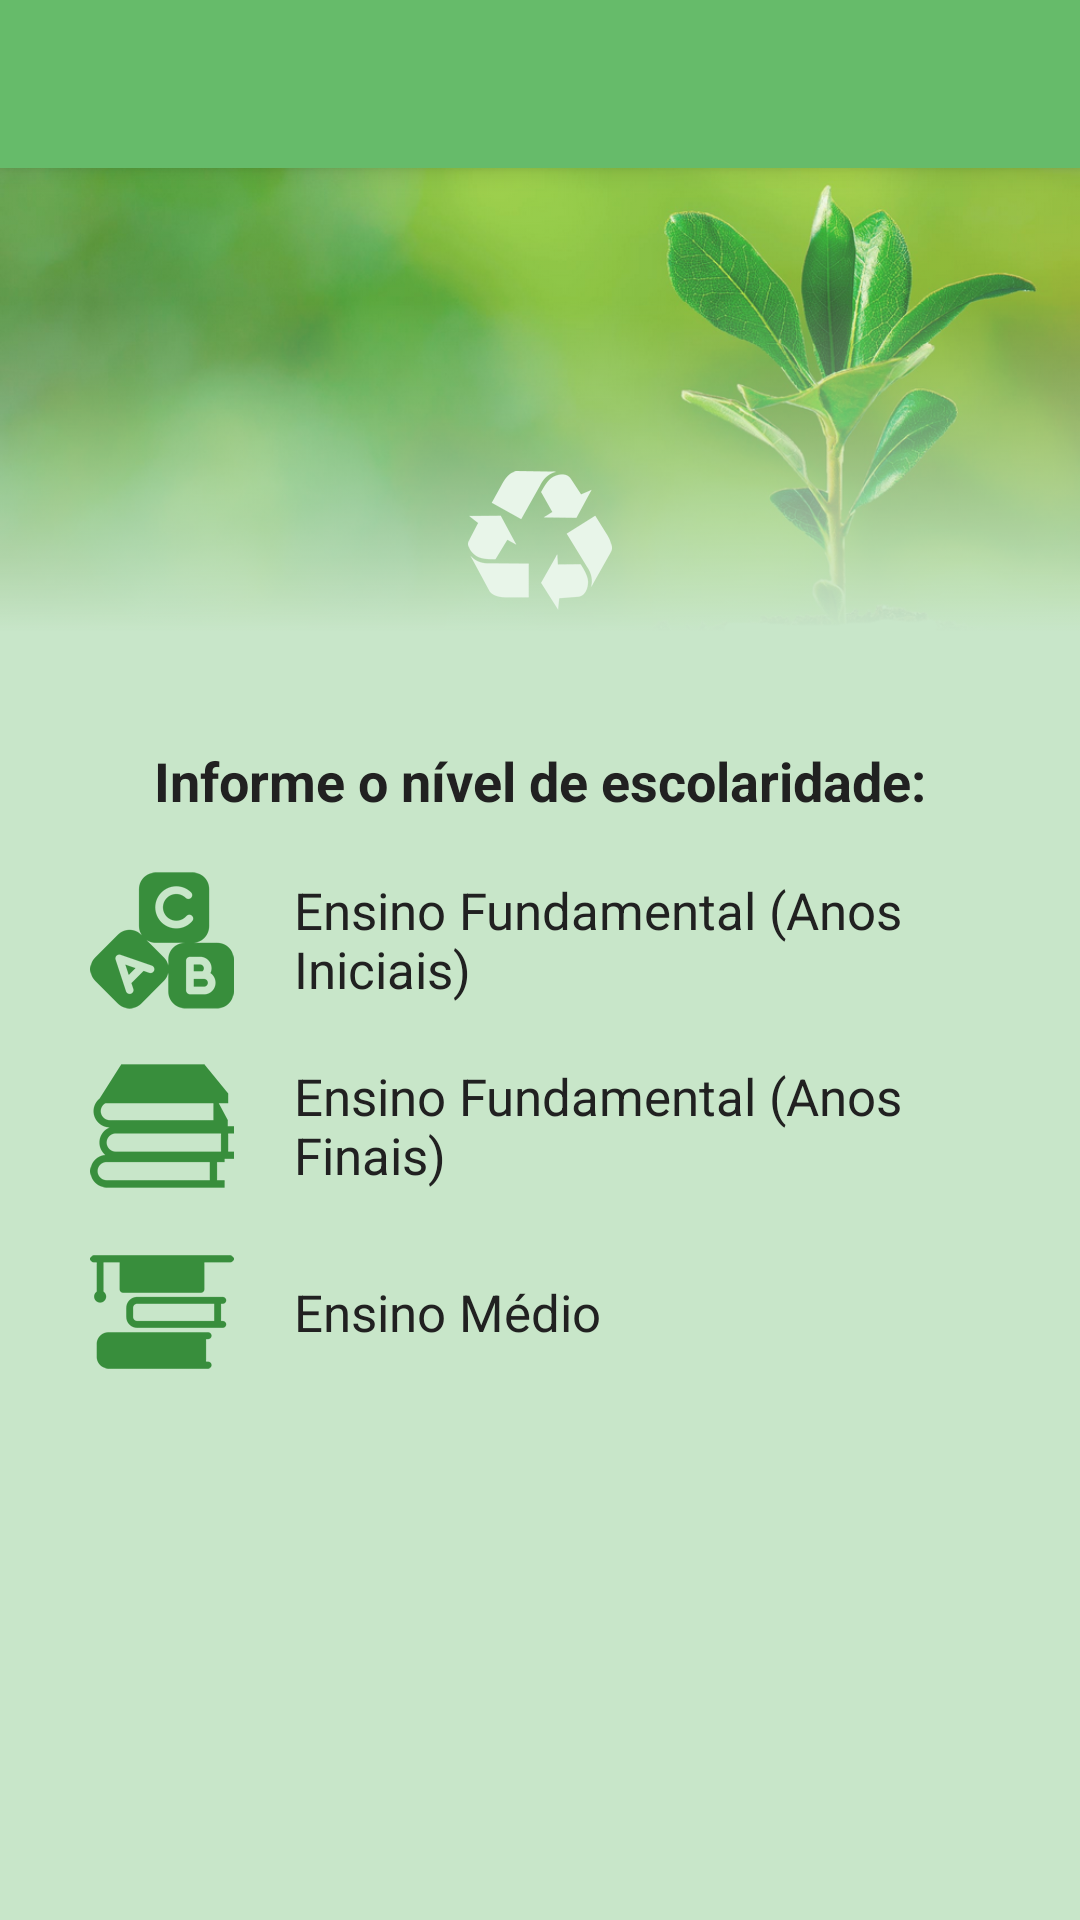

Named icons in this screenshot (1080*1920) and their centers, [x,y]:
finais fund: [162,1126]
iniciais fund: [162,940]
medio: [162,1312]
recycle: [540,540]
